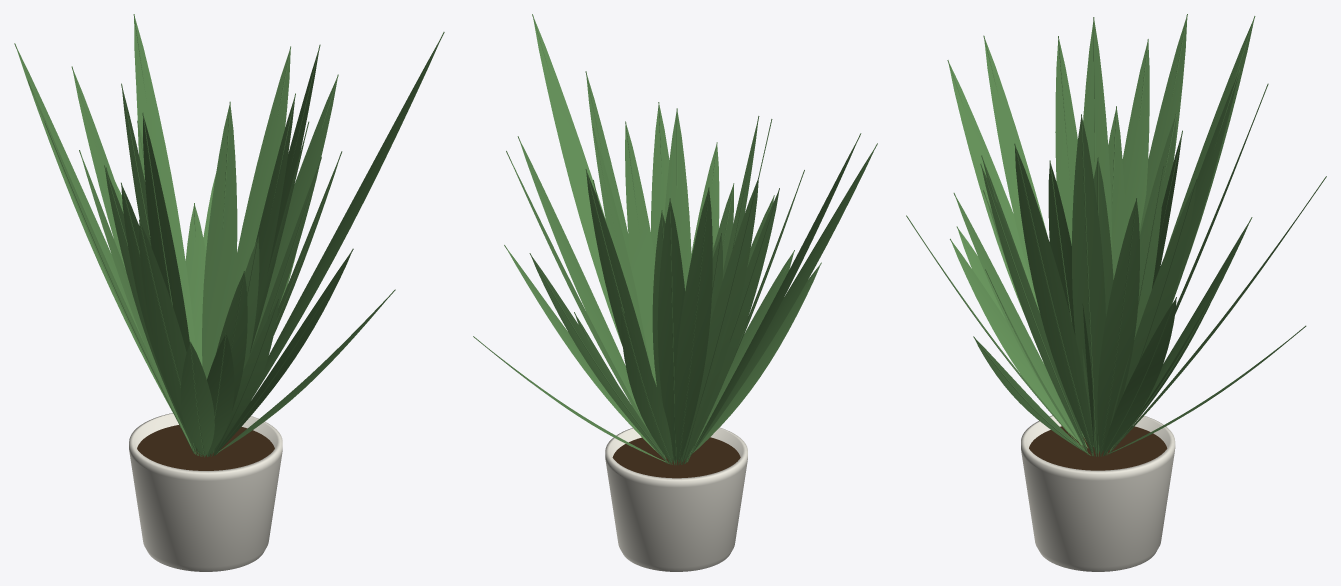
Rendered from OfficePlant.fbx.
3 renders of one model, left to right at view 1: azimuth 30°, elevation 25°; view 2: azimuth 150°, elevation 25°; view 3: azimuth 270°, elevation 25°, orthographic. The views are drawn at different scales.
Visible parts, largest first — view 1: GEO-MAT-Leaf, GEO-Planter, GEO-PottingSoil; view 2: GEO-MAT-Leaf, GEO-Planter, GEO-PottingSoil; view 3: GEO-MAT-Leaf, GEO-Planter, GEO-PottingSoil.
Part boxes in pixels (left/top/right/bottom): GEO-MAT-Leaf: left=14, top=14, right=444, bottom=457; GEO-Planter: left=129, top=413, right=282, bottom=571; GEO-PottingSoil: left=137, top=425, right=274, bottom=470; GEO-MAT-Leaf: left=473, top=14, right=877, bottom=465; GEO-Planter: left=605, top=427, right=747, bottom=571; GEO-PottingSoil: left=612, top=437, right=740, bottom=478; GEO-MAT-Leaf: left=906, top=14, right=1326, bottom=456; GEO-Planter: left=1021, top=415, right=1175, bottom=571; GEO-PottingSoil: left=1029, top=426, right=1167, bottom=470.
Bounding box in the file's own units: 1.12 × 1.57 × 1.2.
